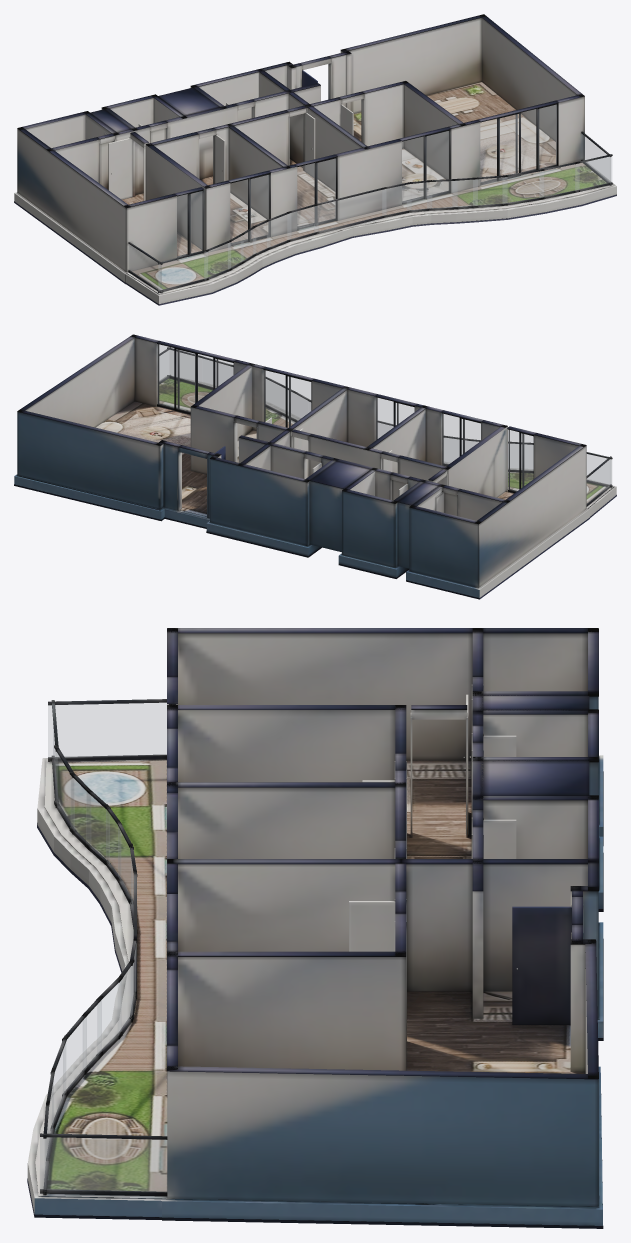
3 renders of one model, top to bottom at view 1: azimuth 30°, elevation 25°; view 2: azimuth 150°, elevation 25°; view 3: azimuth 270°, elevation 25°, orthographic. The views are drawn at different scales.
Visible parts, largest first — view 1: plan, glass4_m, glass3_m, glass2_m, glass1_m, railg9_m, glass0_m, railg16_m, railg4_m, railg3_m, railg1_m, railg5_m (+11 smaller); view 2: plan, glass4_m, glass3_m, glass1_m, glass0_m, glass2_m, railg17_m, railg16_m, railg1_m, railg3_m, railg5_m; view 3: plan, railg0_m, railg17_m, railg7_m, railg13_m, railg5_m, railg14_m, railg15_m, railg6_m.
Part boxes in pixels (x1=…): plan: x1=14, y1=14, x2=616, y2=305; glass4_m: x1=480, y1=105, x2=556, y2=182; glass3_m: x1=402, y1=131, x2=448, y2=201; glass2_m: x1=297, y1=158, x2=335, y2=227; glass1_m: x1=230, y1=175, x2=268, y2=243; railg9_m: x1=314, y1=189, x2=386, y2=232; glass0_m: x1=177, y1=191, x2=202, y2=256; railg16_m: x1=158, y1=252, x2=207, y2=290; railg4_m: x1=502, y1=171, x2=543, y2=203; railg3_m: x1=539, y1=164, x2=579, y2=197; railg1_m: x1=575, y1=157, x2=611, y2=190; railg5_m: x1=473, y1=177, x2=507, y2=205; plan: x1=14, y1=334, x2=616, y2=599; glass4_m: x1=157, y1=344, x2=233, y2=411; glass3_m: x1=264, y1=370, x2=310, y2=427; glass1_m: x1=442, y1=414, x2=480, y2=465; glass0_m: x1=508, y1=430, x2=533, y2=491; glass2_m: x1=376, y1=397, x2=414, y2=439; railg17_m: x1=587, y1=459, x2=610, y2=503; railg16_m: x1=587, y1=454, x2=611, y2=485; railg1_m: x1=170, y1=350, x2=194, y2=381; railg3_m: x1=202, y1=359, x2=230, y2=386; railg5_m: x1=266, y1=379, x2=280, y2=411; plan: x1=27, y1=628, x2=603, y2=1228; railg0_m: x1=40, y1=1137, x2=166, y2=1192; railg17_m: x1=48, y1=703, x2=166, y2=757; railg7_m: x1=97, y1=980, x2=121, y2=1053; railg13_m: x1=86, y1=792, x2=109, y2=863; railg5_m: x1=63, y1=1017, x2=86, y2=1094; railg14_m: x1=71, y1=776, x2=90, y2=846; railg15_m: x1=55, y1=752, x2=74, y2=830; railg6_m: x1=83, y1=1000, x2=101, y2=1070.
Size of the model in its own units: 17.24 by 2.62 by 9.23.
Materials: 2 (1 with a texture image).
